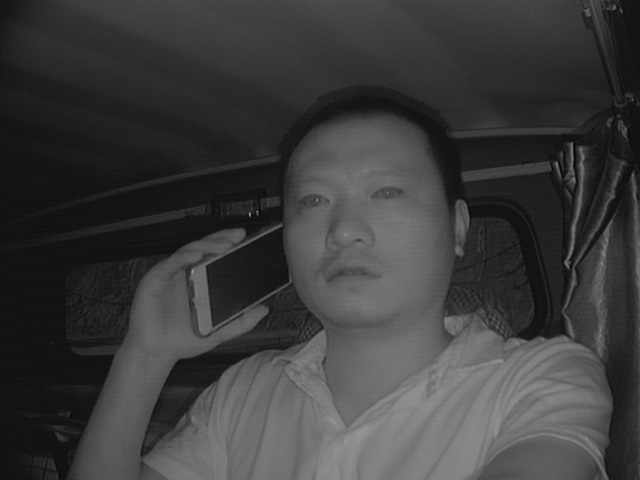hand: (128, 227, 268, 361)
